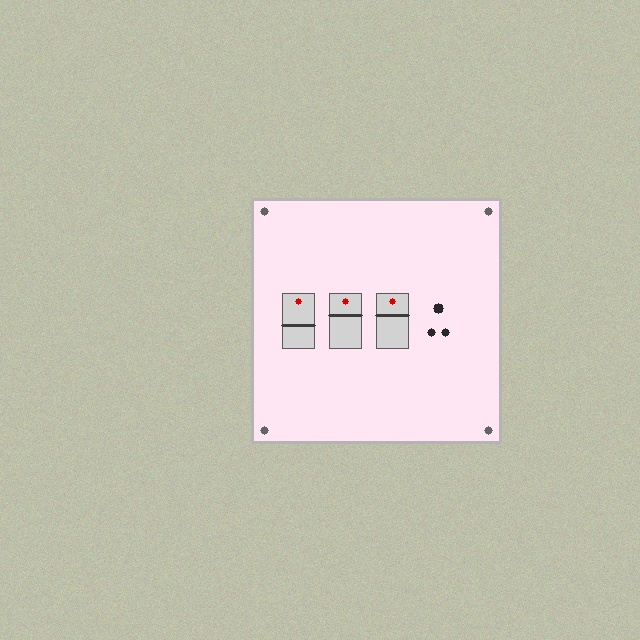switchboard: (252, 199, 500, 442)
